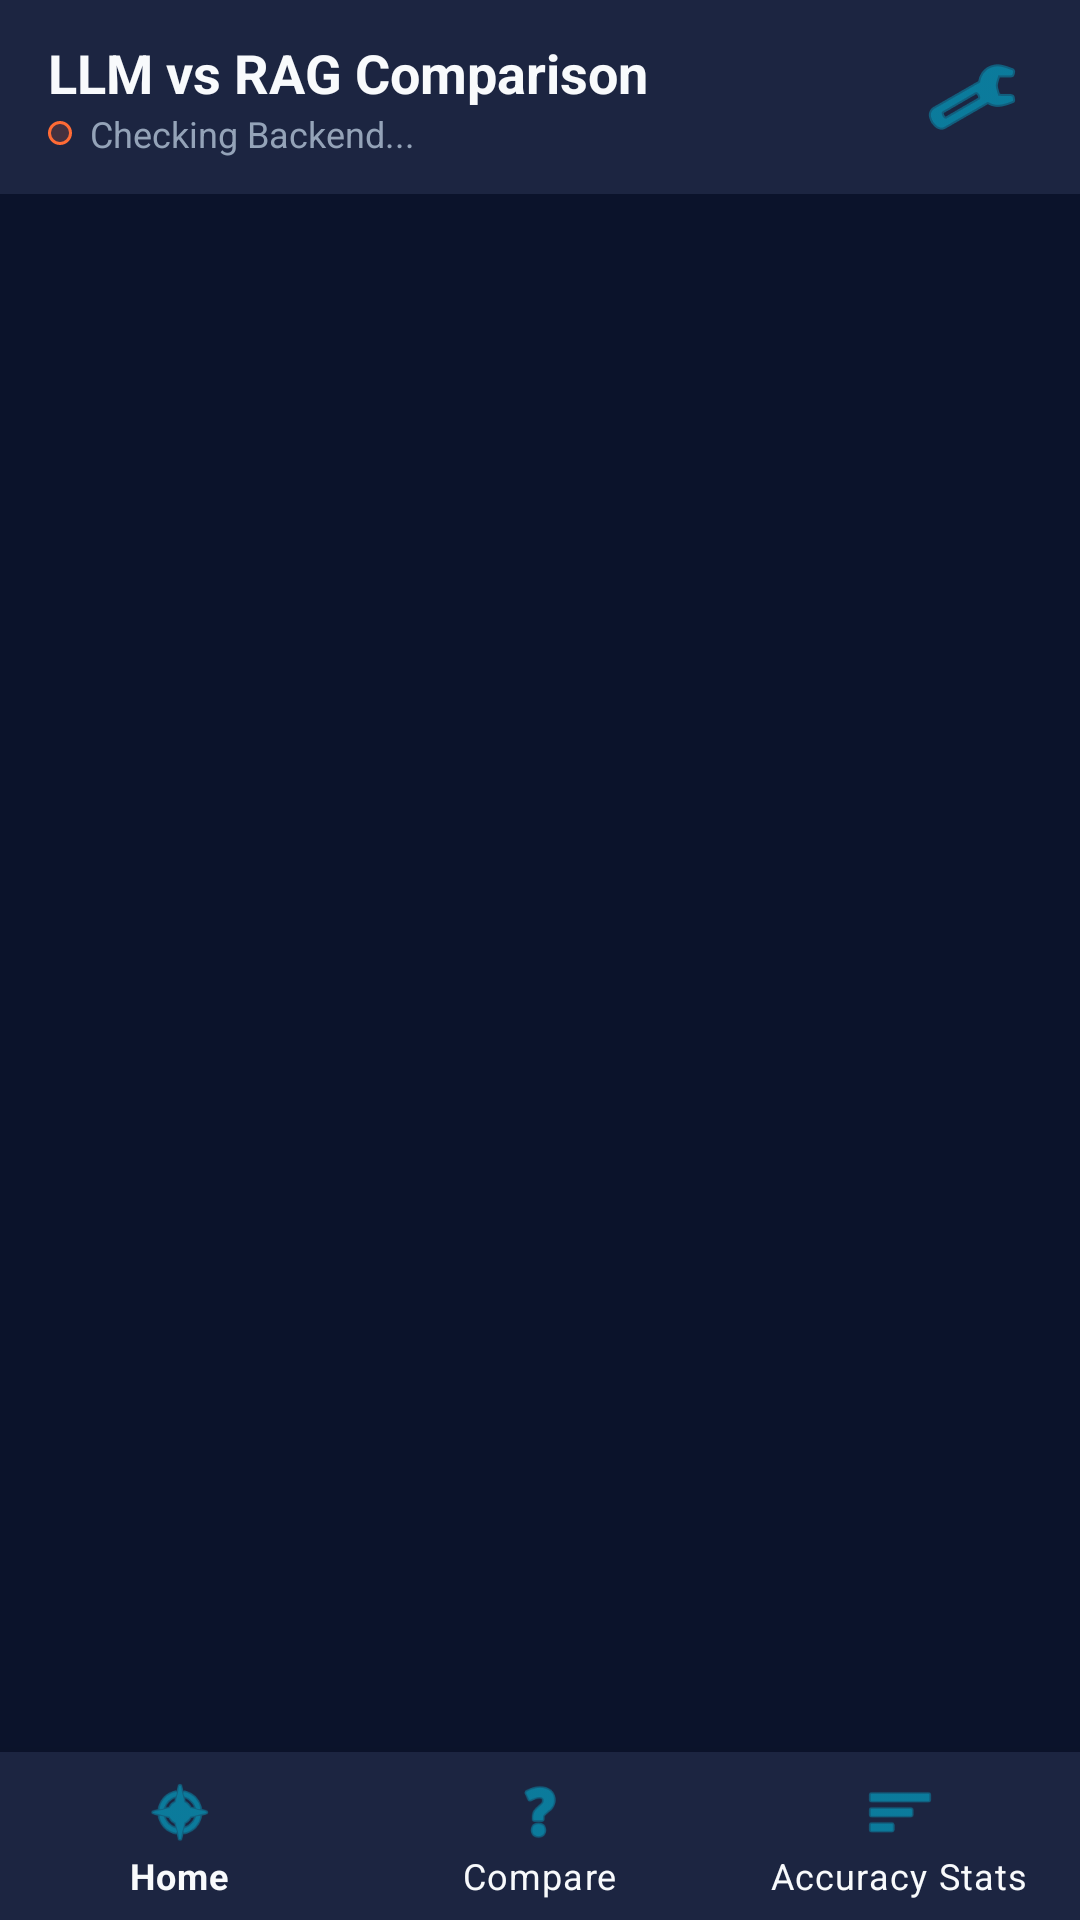

Screen size 1080w x 1920h. Icon name, then its center in pixels as point (x, y):
Backend Settings: point (972, 97)
